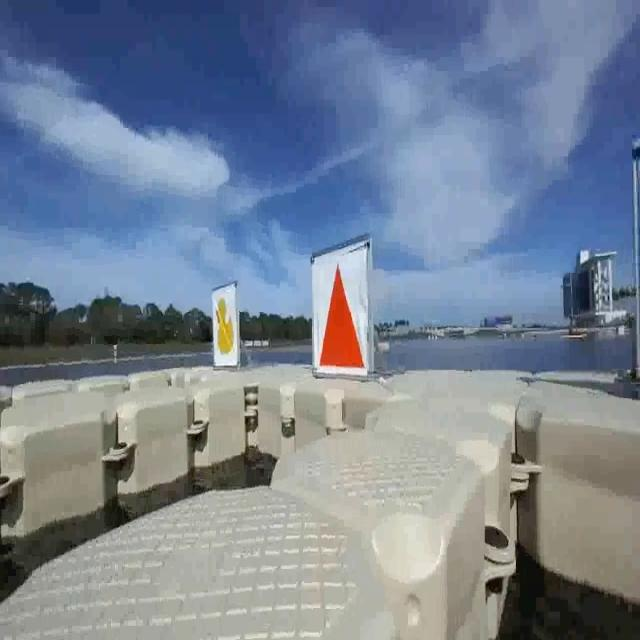red-dot: (312, 255, 371, 382)
yellow-duck: (210, 288, 240, 369)
